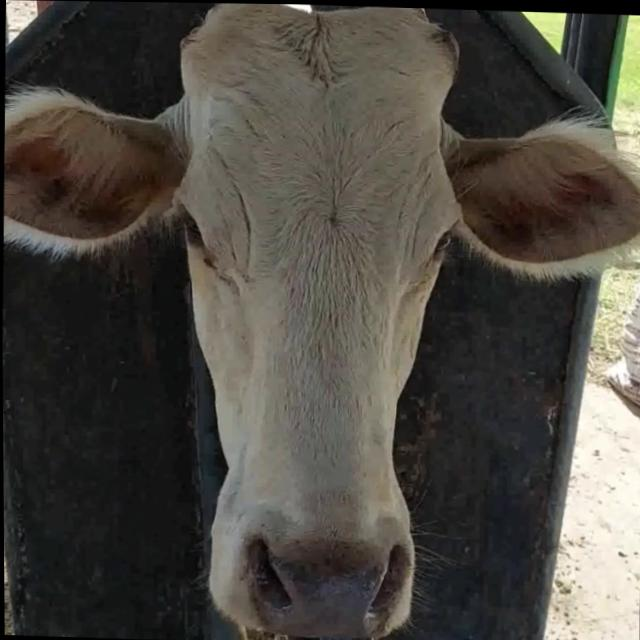cowFace: (174, 2, 467, 635)
